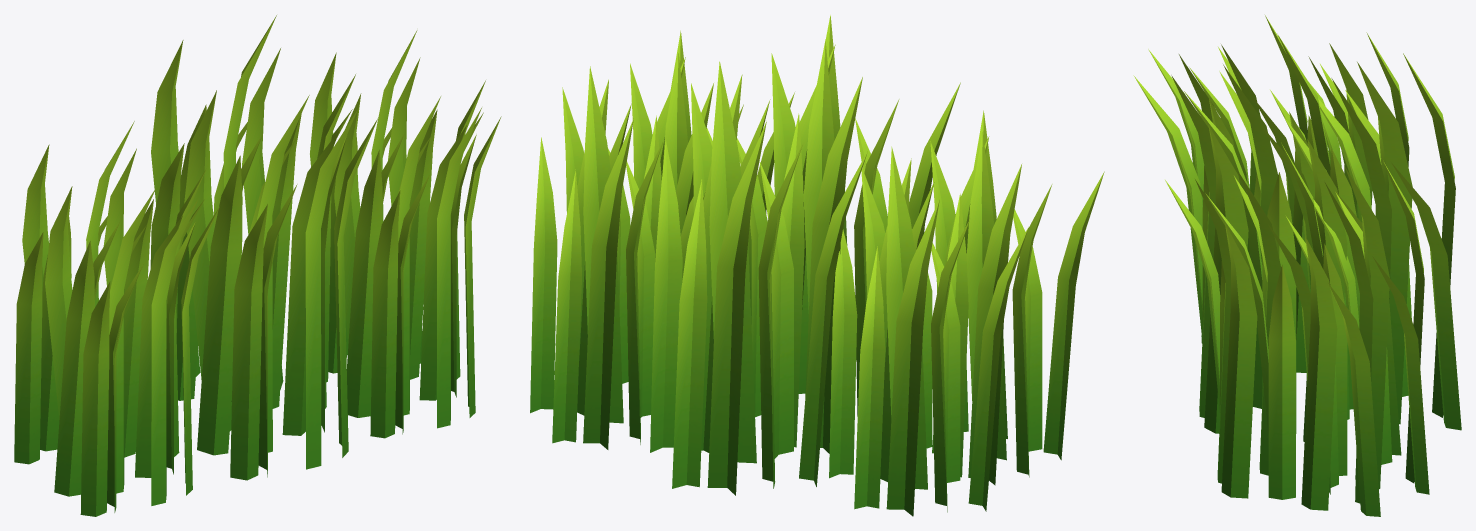
3 renders of one model, left to right at view 1: azimuth 30°, elevation 25°; view 2: azimuth 150°, elevation 25°; view 3: azimuth 270°, elevation 25°, orthographic. The views are drawn at different scales.
Parts seen in each view (by area): view 1: ReedBig; view 2: ReedBig; view 3: ReedBig.
Boxes of the visible parts, x1=… form: ReedBig: x1=14, y1=15, x2=501, y2=516; ReedBig: x1=530, y1=15, x2=1104, y2=516; ReedBig: x1=1133, y1=15, x2=1461, y2=516.
Size of the model in its own units: 3.21 by 2.53 by 2.02.
1 material, 1 textured.
